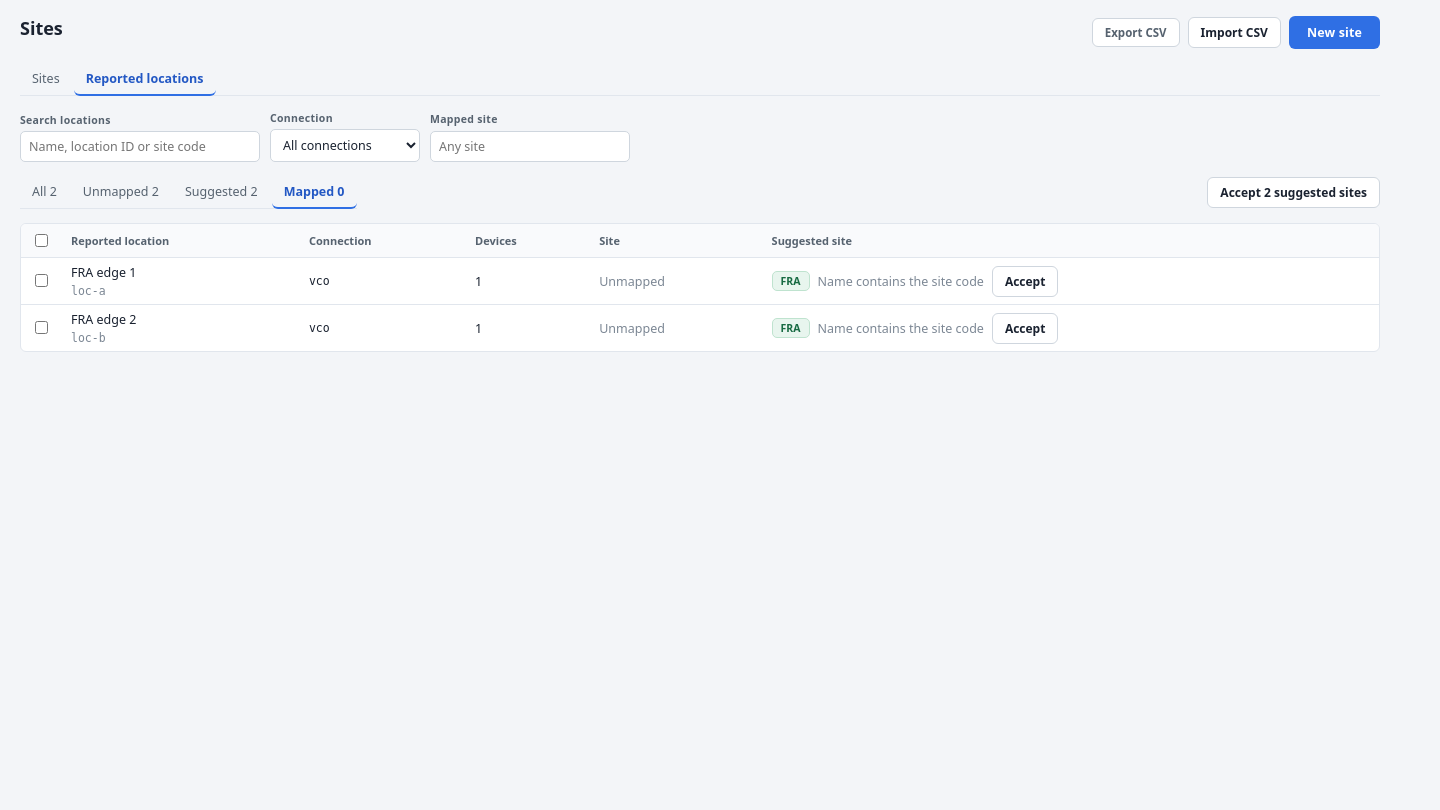
Test case: site bulk work › accepts every suggested site across pages after one confirmation
Click the button "Accept 2 suggested sites": (1294, 192) [1207, 177, 1380, 208]
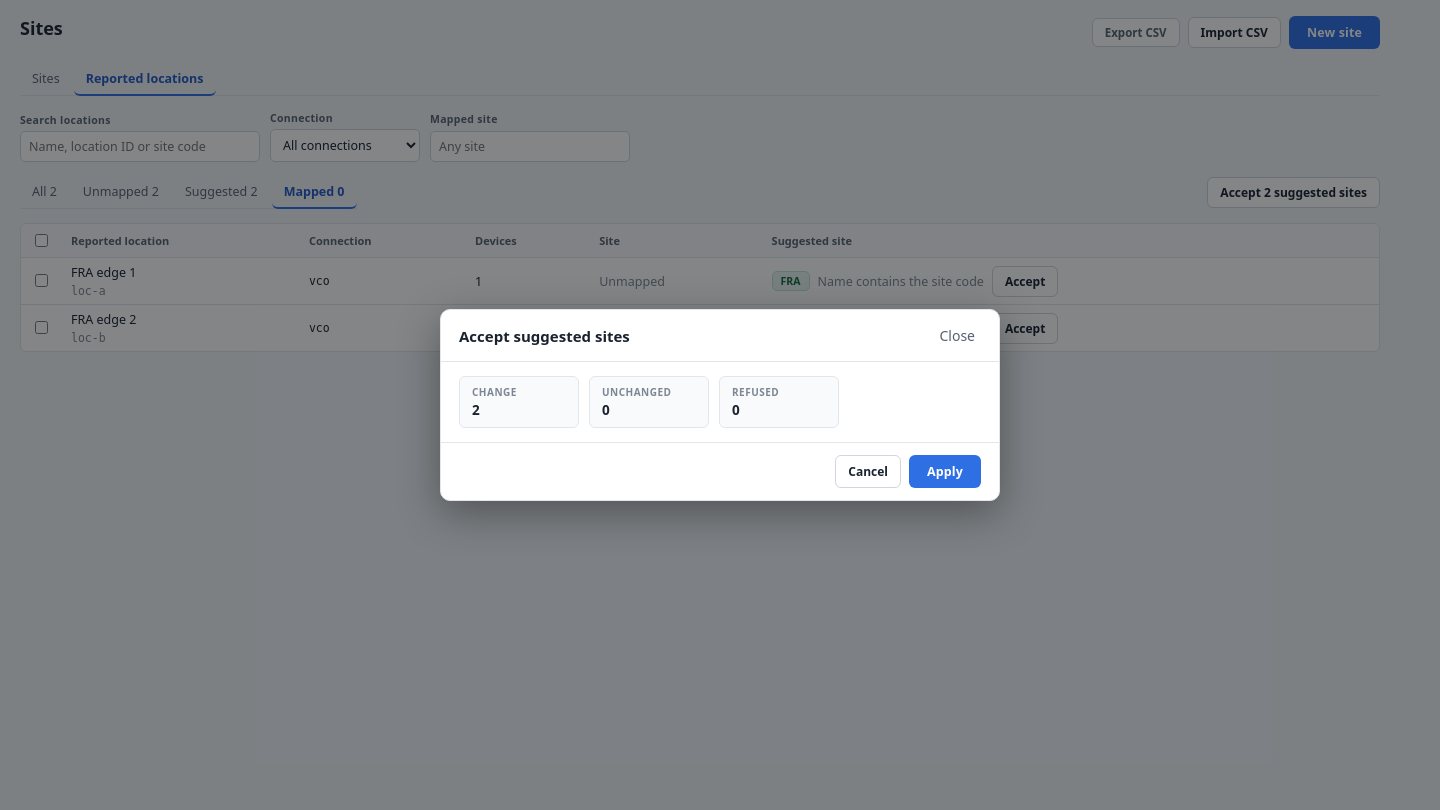
Click the button "Apply": (945, 472) [909, 455, 981, 488]
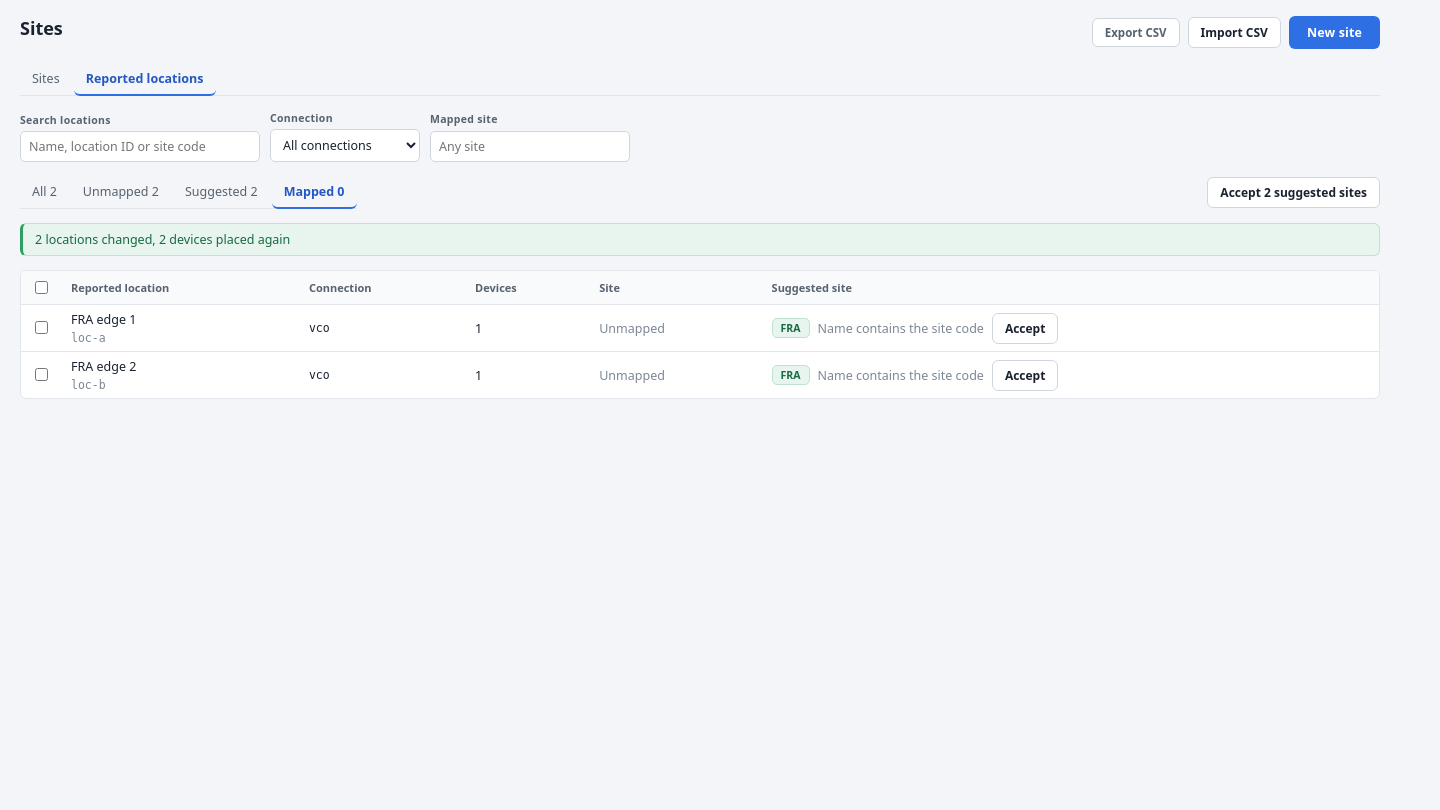
Expected: the text "2 locations changed, 2 devices placed again" is shown, [35, 231, 290, 248]
